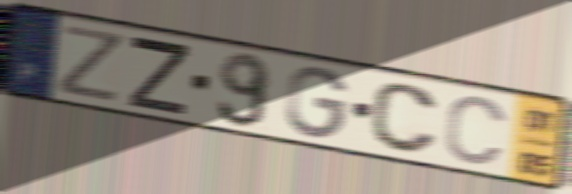9: (214, 49, 273, 131)
C: (368, 80, 441, 157), (442, 93, 511, 168)
G: (283, 65, 352, 141)
Z: (55, 22, 128, 106), (127, 32, 193, 119)
